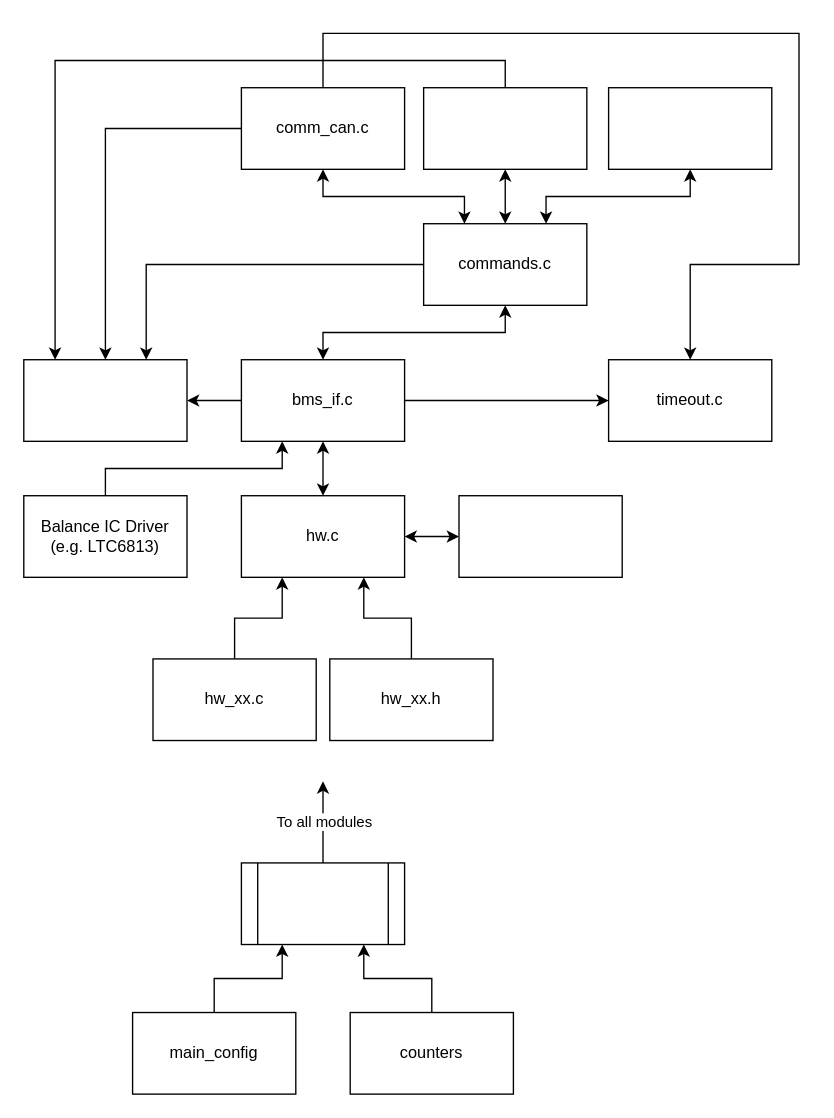
The diagram is 834 pixels wide and 1118 high, and some of its shapes have lost their labels. Each missing label, with the centre of its shape:
backup_data: point (322, 903)
comm_uart.c (TODO): point (689, 127)
comm_usb.c: point (504, 127)
hw.h: point (540, 535)
sleep.c: point (104, 399)
